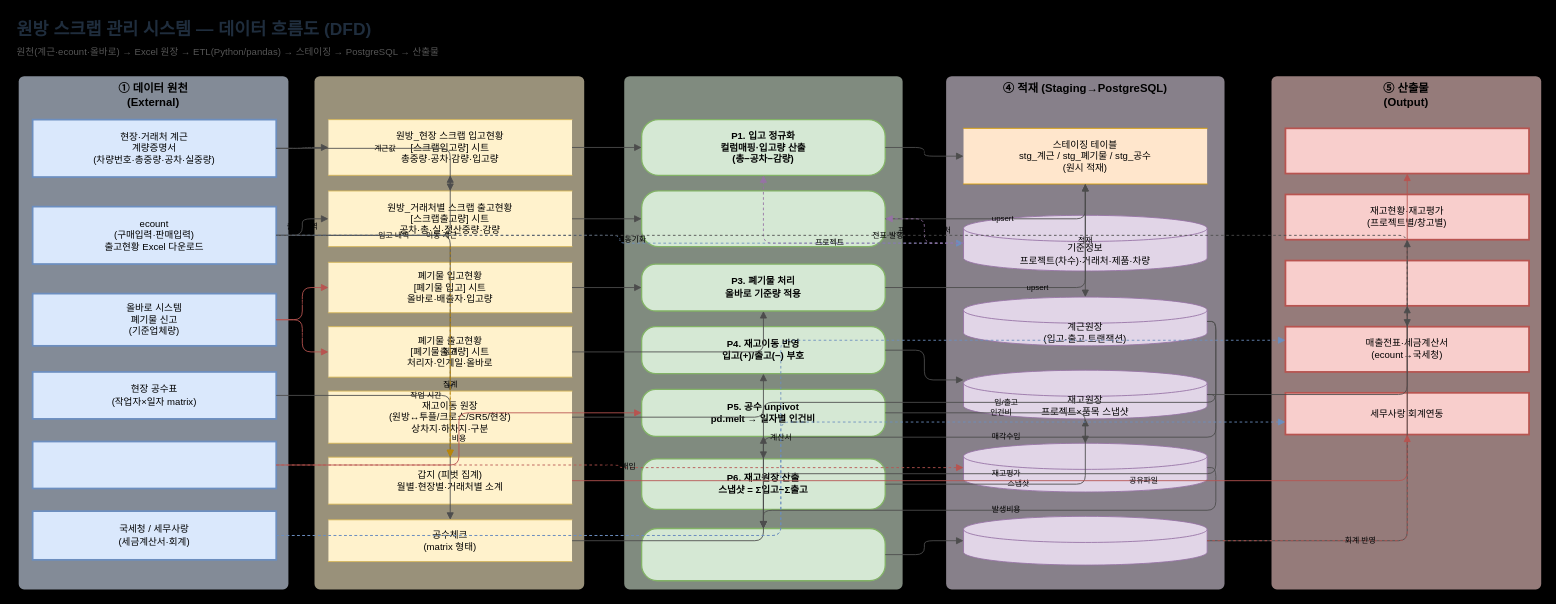
This 1556x604 diagram has some shape labels left out. The shapes that lost their labels are listed below. From the top down, each one's box as (x1, y1, x2, y2) in pixels, then its label:
(1284, 127, 1529, 174): 일일 출고보고 (카톡 이미지)
(641, 190, 885, 247): P2. 출고 정규화 정산중량·감량 확정 거래처별 분기
(1284, 259, 1529, 306): 대표이사 보고 손익현황 (docx/pdf)
(314, 76, 584, 589): ② Excel 원장 (Raw / 갑지·상세시트)
(624, 76, 902, 589): ③ ETL 처리 (Python + pandas)
(31, 440, 277, 489): 운송·매입·설비반출 비용 자료
(963, 442, 1207, 492): 비용원장 공수·운송·폐기·매입
(641, 527, 885, 581): P7. 손익 집계 매각−비용 + 재고평가
(963, 515, 1207, 565): 손익 실현+미실현(재고평가)
